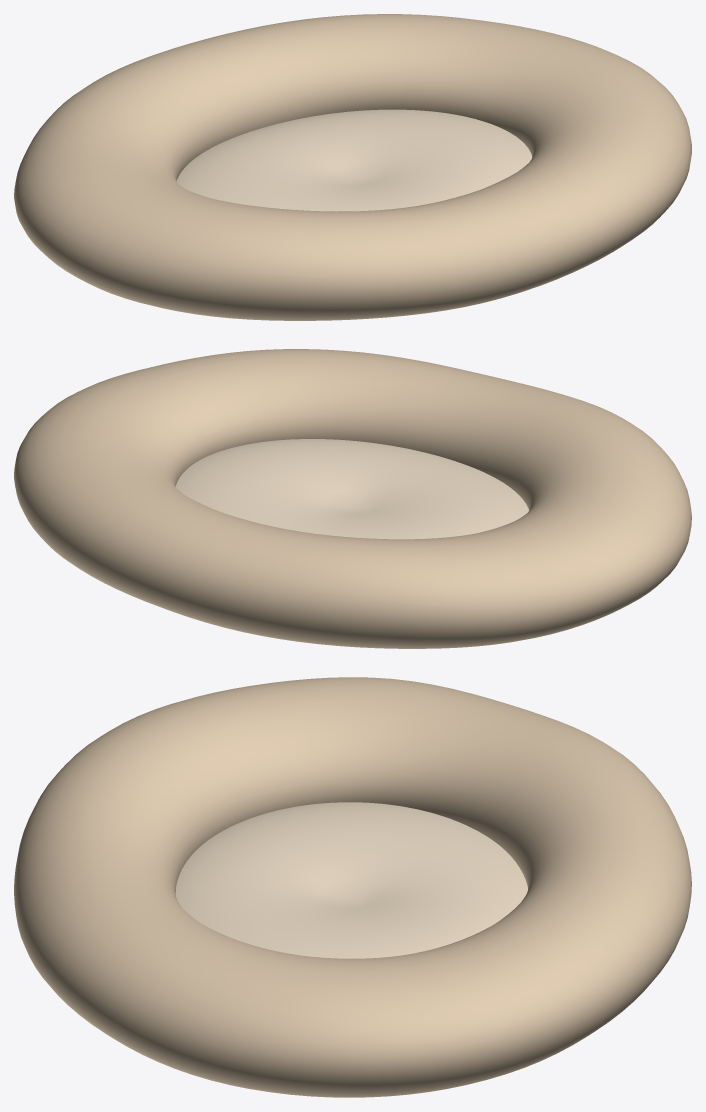
Rendered from dogbed.glb.
3 views of the same model, one above another, from view 1: azimuth 30°, elevation 25°; view 2: azimuth 150°, elevation 25°; view 3: azimuth 270°, elevation 25° (orthographic). The views are drawn at different scales.
Parts seen in each view (by area): view 1: DogBed; view 2: DogBed; view 3: DogBed.
Boxes of the visible parts, x1,y1,x2,y2 form: DogBed: [14, 14, 691, 320]; DogBed: [14, 349, 691, 648]; DogBed: [14, 677, 691, 1097].
Size of the model in its own units: 0.6547 by 0.1467 by 0.5225.
